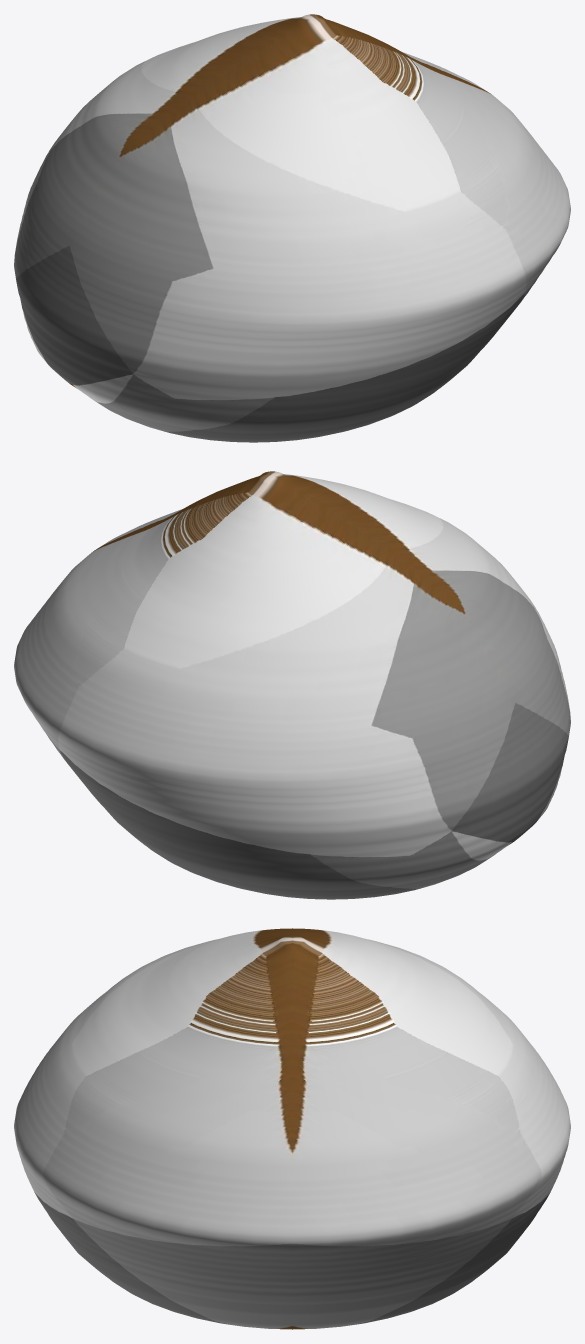
File: silver_boulder.glb
3 renders of one model, top to bottom at view 1: azimuth 30°, elevation 25°; view 2: azimuth 150°, elevation 25°; view 3: azimuth 270°, elevation 25°, orthographic. The views are drawn at different scales.
Visible parts, largest first — view 1: silver_boulder; view 2: silver_boulder; view 3: silver_boulder.
Part boxes in pixels (x1=…): silver_boulder: x1=14, y1=14, x2=570, y2=442; silver_boulder: x1=14, y1=471, x2=570, y2=899; silver_boulder: x1=14, y1=928, x2=570, y2=1329.
Size of the model in its own units: 0.9968 by 0.7205 by 0.9695.
1 material, 1 textured.
